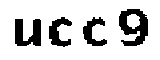9: (116, 6, 151, 49)
c: (46, 16, 74, 48), (82, 17, 109, 50)
u: (12, 18, 44, 48)
